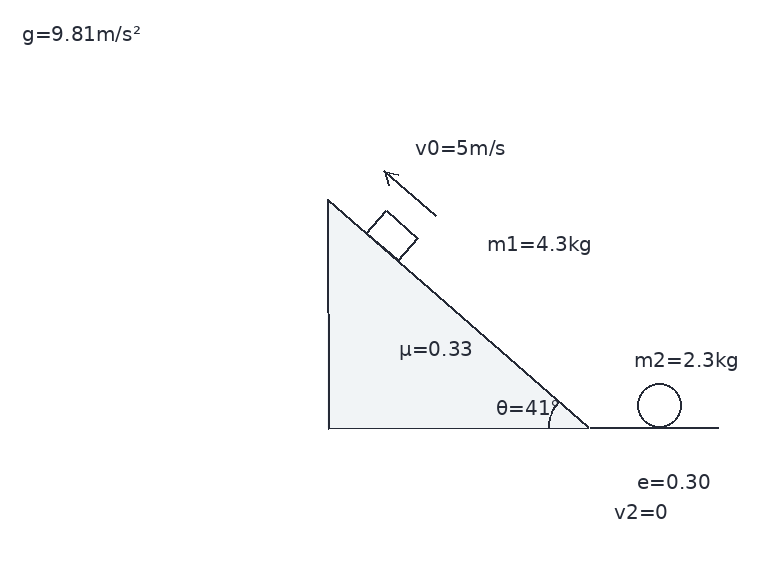ball: (635, 381, 683, 429)
block: (364, 208, 420, 262)
ramp: (325, 197, 591, 429)
